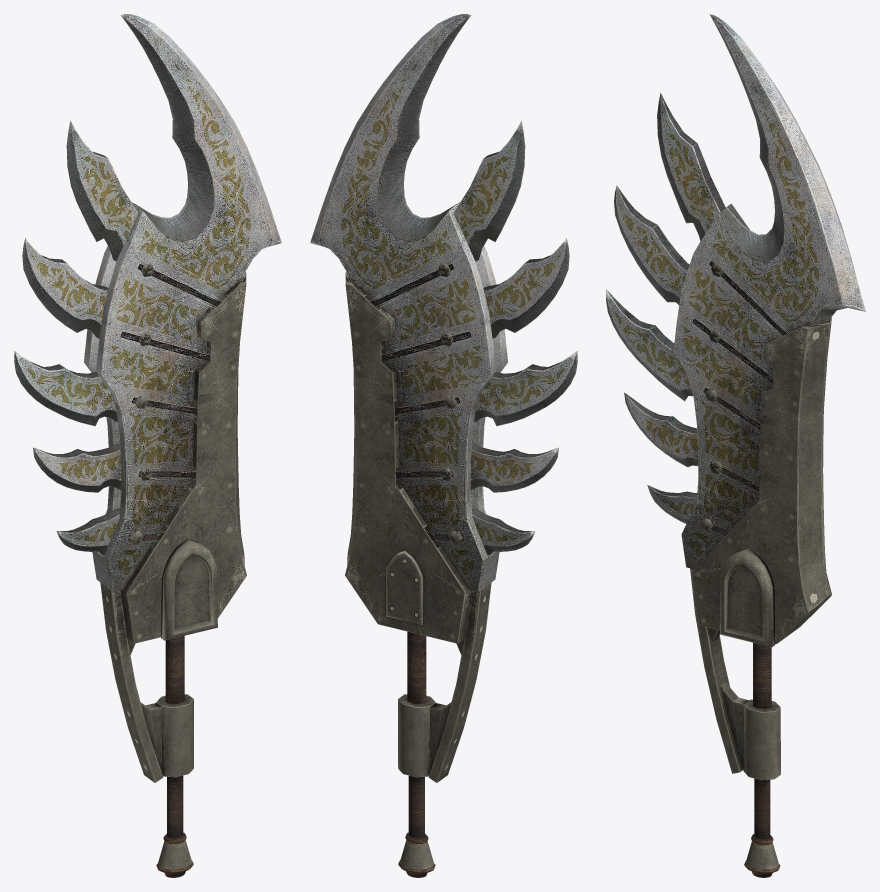
File: bs_two014.obj
The picture shows the model from 3 angles, left to right: view 1: azimuth 30°, elevation 25°; view 2: azimuth 150°, elevation 25°; view 3: azimuth 330°, elevation 25°; orthographic projection. The views are drawn at different scales.
Parts seen in each view (by area): view 1: bs_two014_000_LOD_1, bs_two014_001_LOD_1; view 2: bs_two014_000_LOD_1, bs_two014_001_LOD_1; view 3: bs_two014_000_LOD_1, bs_two014_001_LOD_1.
Boxes of the visible parts, x1=… form: bs_two014_000_LOD_1: x1=14, y1=14, x2=281, y2=591; bs_two014_001_LOD_1: x1=100, y1=272, x2=246, y2=877; bs_two014_000_LOD_1: x1=310, y1=14, x2=577, y2=591; bs_two014_001_LOD_1: x1=345, y1=272, x2=491, y2=877; bs_two014_000_LOD_1: x1=606, y1=14, x2=865, y2=569; bs_two014_001_LOD_1: x1=690, y1=317, x2=831, y2=877.
Bounding box in the file's own units: 87.27 × 272 × 18.36.
